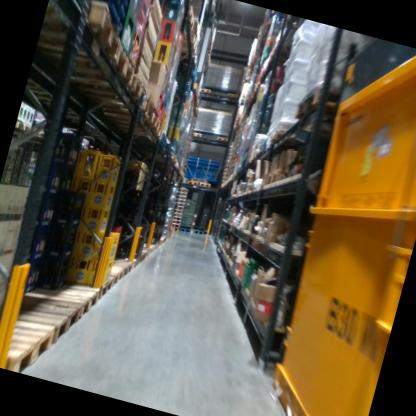pallet: (48, 24, 140, 95), (39, 0, 129, 69), (0, 283, 81, 349), (17, 267, 105, 327), (62, 57, 152, 113), (76, 77, 158, 129), (0, 307, 57, 378), (286, 77, 345, 138), (106, 100, 162, 136), (263, 124, 299, 157), (173, 2, 202, 35), (258, 164, 287, 194), (99, 254, 132, 280), (176, 30, 201, 62), (91, 272, 114, 304), (103, 264, 125, 287), (123, 251, 142, 274), (151, 120, 165, 140), (130, 249, 148, 264), (154, 132, 170, 148), (197, 84, 212, 101), (223, 89, 238, 106), (214, 134, 230, 146), (190, 226, 207, 237), (178, 224, 192, 237), (197, 178, 212, 190), (187, 175, 200, 187), (190, 130, 204, 140)
